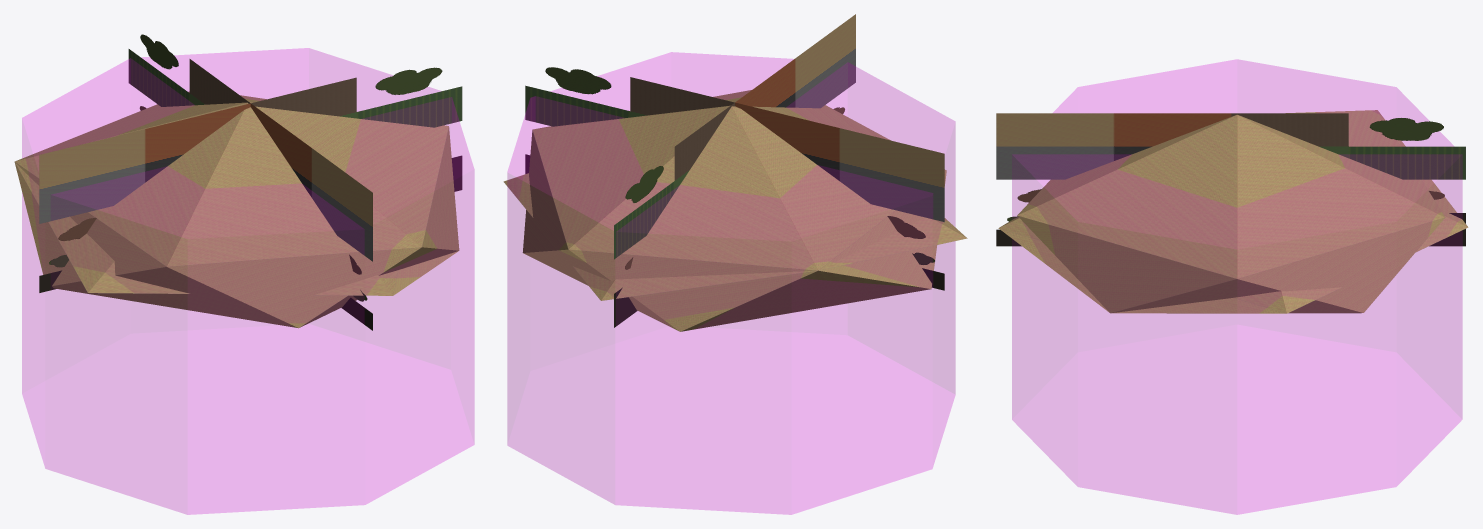
The model's file is rock_med_tan_b.dae.
3 renders of one model, left to right at view 1: azimuth 30°, elevation 25°; view 2: azimuth 150°, elevation 25°; view 3: azimuth 270°, elevation 25°, orthographic. The views are drawn at different scales.
Parts seen in each view (by area): view 1: Colmesh_rock-1, rock_med_tan_b_a800, rock_med_tan_b_a50, rock_med_tan_b_a200; view 2: Colmesh_rock-1, rock_med_tan_b_a800, rock_med_tan_b_a50, rock_med_tan_b_a200; view 3: Colmesh_rock-1, rock_med_tan_b_a800, rock_med_tan_b_a50, rock_med_tan_b_a200.
Boxes of the visible parts, x1,y1,x2,y2 form: Colmesh_rock-1: (22, 48, 474, 514); rock_med_tan_b_a800: (14, 91, 459, 328); rock_med_tan_b_a50: (39, 34, 462, 330); rock_med_tan_b_a200: (15, 162, 458, 295); Colmesh_rock-1: (507, 52, 955, 514); rock_med_tan_b_a800: (522, 90, 946, 331); rock_med_tan_b_a50: (525, 14, 944, 327); rock_med_tan_b_a200: (503, 173, 967, 300); Colmesh_rock-1: (1012, 59, 1462, 514); rock_med_tan_b_a800: (1017, 110, 1445, 313); rock_med_tan_b_a50: (996, 113, 1465, 246); rock_med_tan_b_a200: (998, 111, 1468, 313).
Bounding box in the file's own units: 1.22 × 1.23 × 0.8773.
2 materials, 1 textured.
